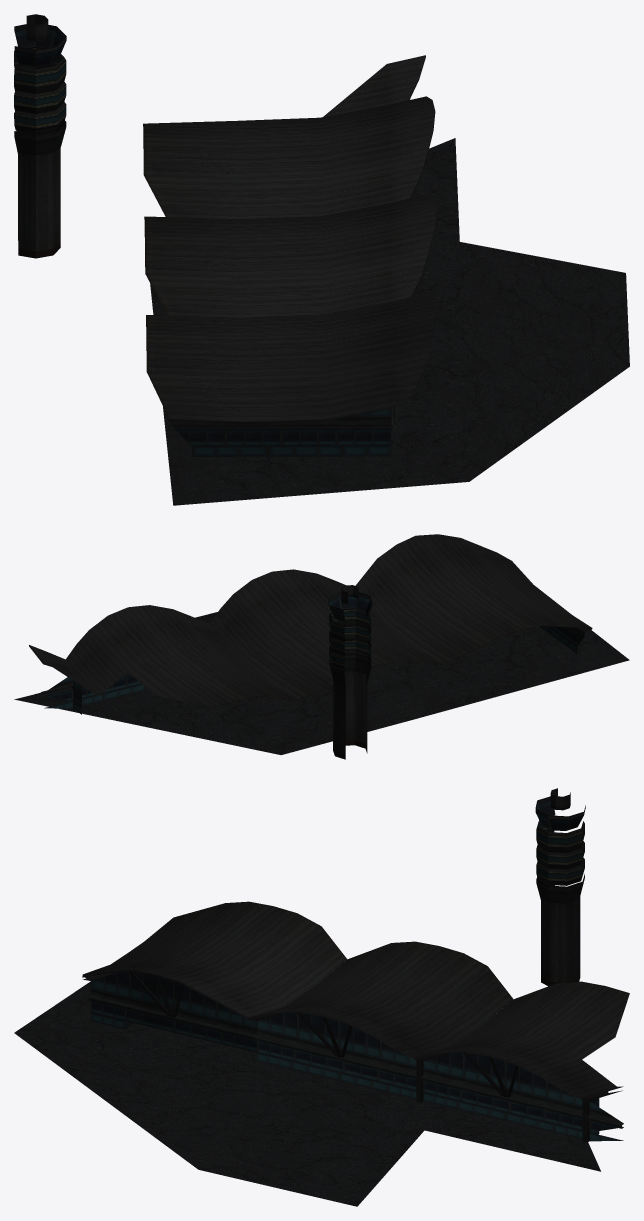
The model's file is cell_-2_1.gltf.
3 views of the same model, one above another, from view 1: azimuth 30°, elevation 25°; view 2: azimuth 150°, elevation 25°; view 3: azimuth 270°, elevation 25° (orthographic). The views are drawn at different scales.
Visible parts, largest first — view 1: cell_-2_1; view 2: cell_-2_1; view 3: cell_-2_1.
Part boxes in pixels (<box>): cell_-2_1: <box>14,14,629,505</box>; cell_-2_1: <box>14,534,629,759</box>; cell_-2_1: <box>14,788,629,1206</box>.
Bounding box in the file's own units: 277 × 124 × 303.
Materials: 5 (5 with a texture image).
